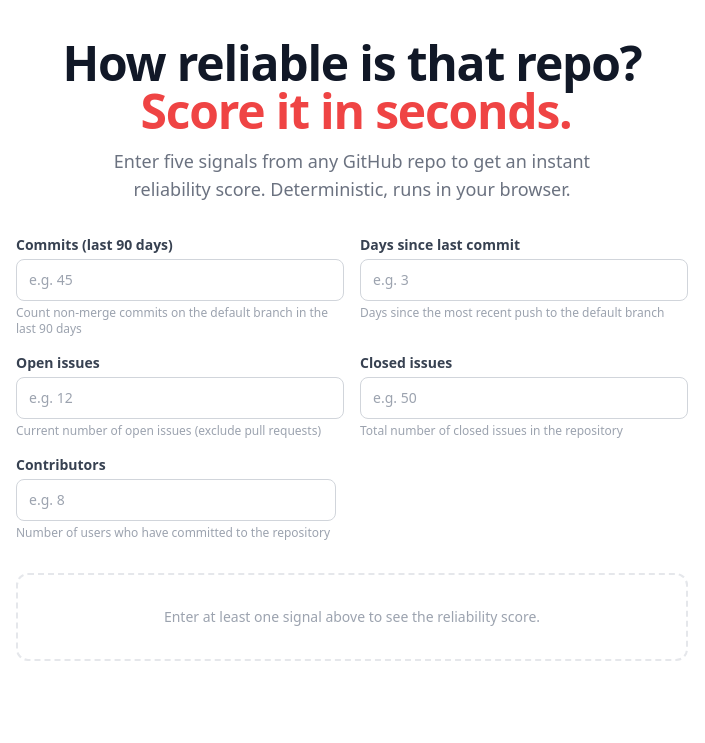
Test: ScoreDisplay (via Hero integration) › renders all four metric breakdown labels when signals are provided
This screenshot has width=705, height=743.
Step 1. Type "45" into the number field labelled "Commits (last 90 days)" → (180, 280), box [16,259,344,301]
(page scrolled)
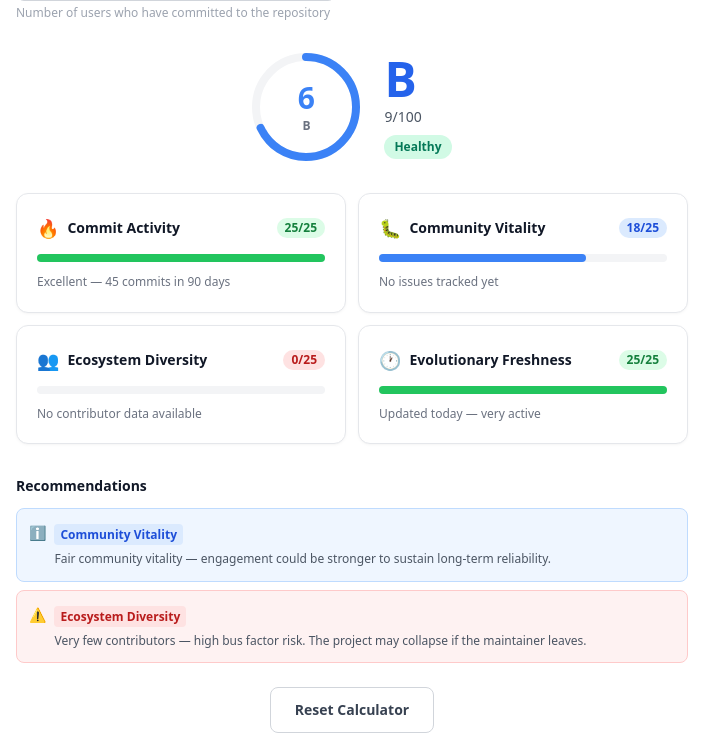
Now the heading "Commit Activity" is shown, box [68,218,180,238]
Now the heading "Community Vitality" is shown, box [410,218,545,238]
Now the heading "Ecosystem Diversity" is shown, box [68,350,207,370]
